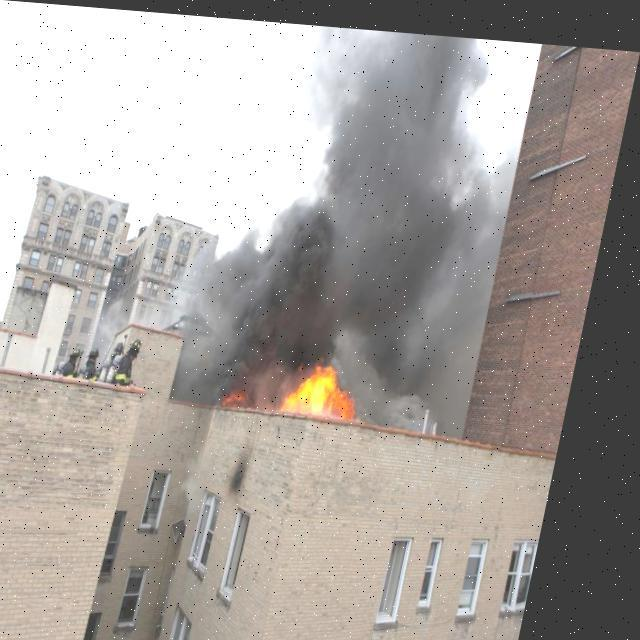Fire: (288, 346, 382, 421)
